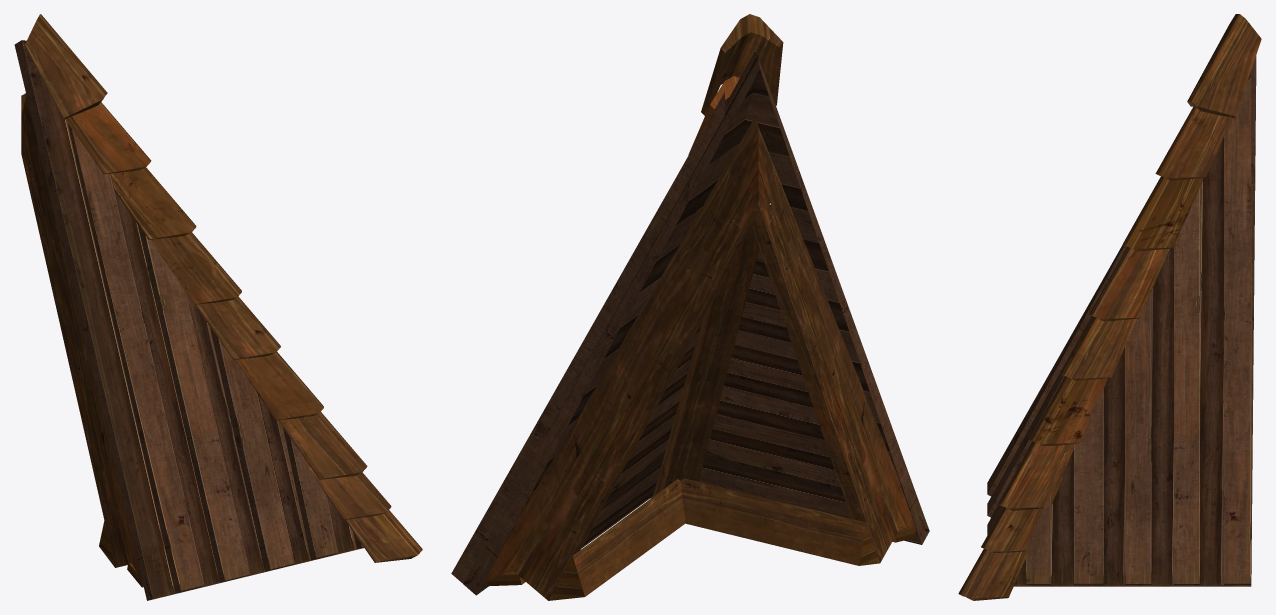
3 views of the same model, side by side, from view 1: azimuth 30°, elevation 25°; view 2: azimuth 150°, elevation 25°; view 3: azimuth 270°, elevation 25° (orthographic). The views are drawn at different scales.
Parts seen in each view (by area): view 1: SM_BB_T2_Roof_Large_Hip_Steep_LOD0; view 2: SM_BB_T2_Roof_Large_Hip_Steep_LOD0; view 3: SM_BB_T2_Roof_Large_Hip_Steep_LOD0.
Part boxes in pixels (<box>): SM_BB_T2_Roof_Large_Hip_Steep_LOD0: <box>14,14,422,600</box>; SM_BB_T2_Roof_Large_Hip_Steep_LOD0: <box>451,14,929,600</box>; SM_BB_T2_Roof_Large_Hip_Steep_LOD0: <box>958,14,1261,600</box>.
Bounding box in the file's own units: 2.19 × 3.97 × 2.29.
2 materials, 2 textured.
